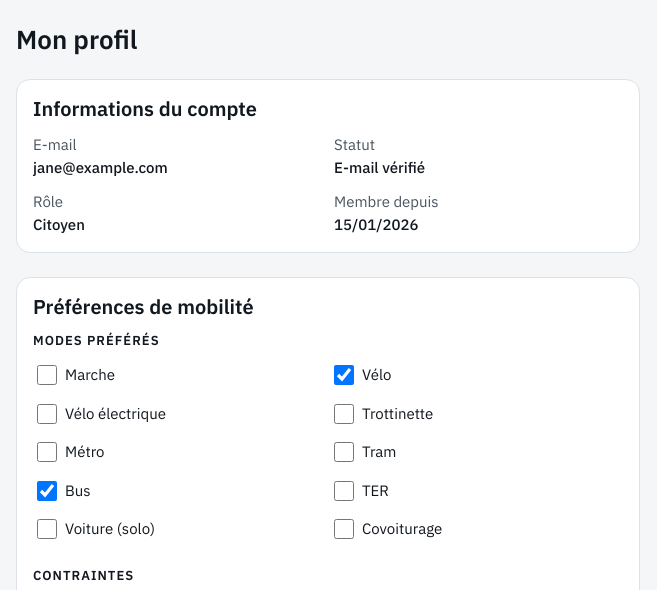
Scenario: ProfilePage › soumet les préférences modifiées via PATCH et affiche la confirmation
Check: the text "jane@example.com" is shown, box [33,158,168,176]
Click the checkbox labelled "Métro" at (47, 452), box [37,442,57,462]
(page scrolled)
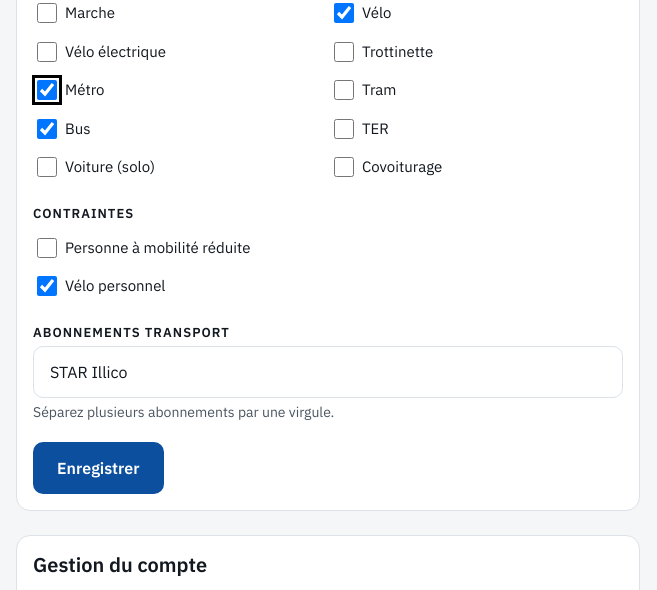
Click the button "Enregistrer" at (98, 468), box [33,442,164,494]
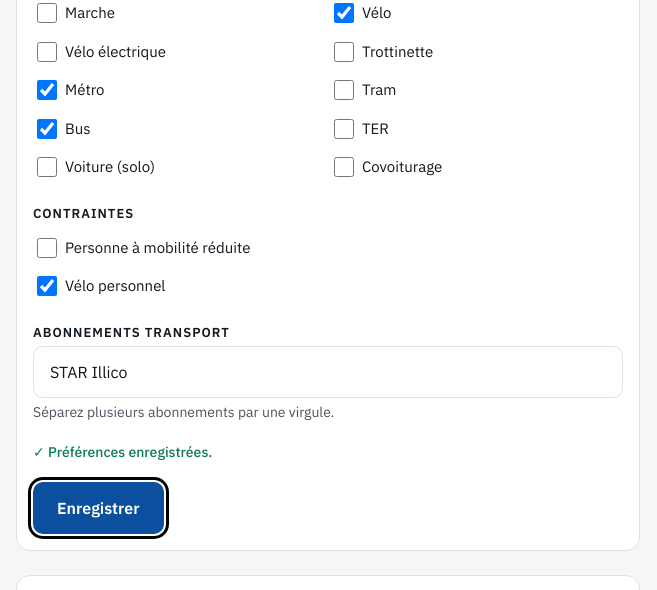
Check: the text "✓ Préférences enregistrées." is shown, box [33,442,212,460]
